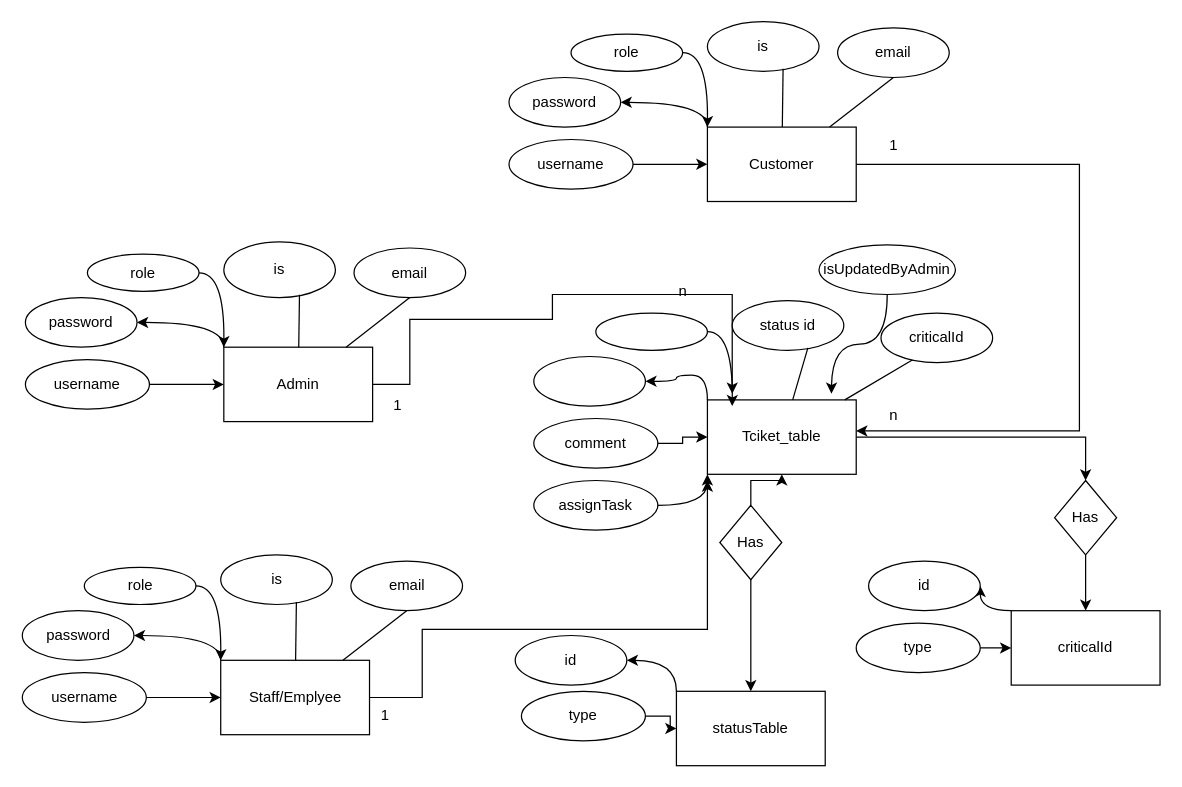
This 1182x787 diagram has some shape labels left out. Each missing label, with the centre of its shape:
"file name" goes at pixel 651 331.
"solution" goes at pixel 589 380.
